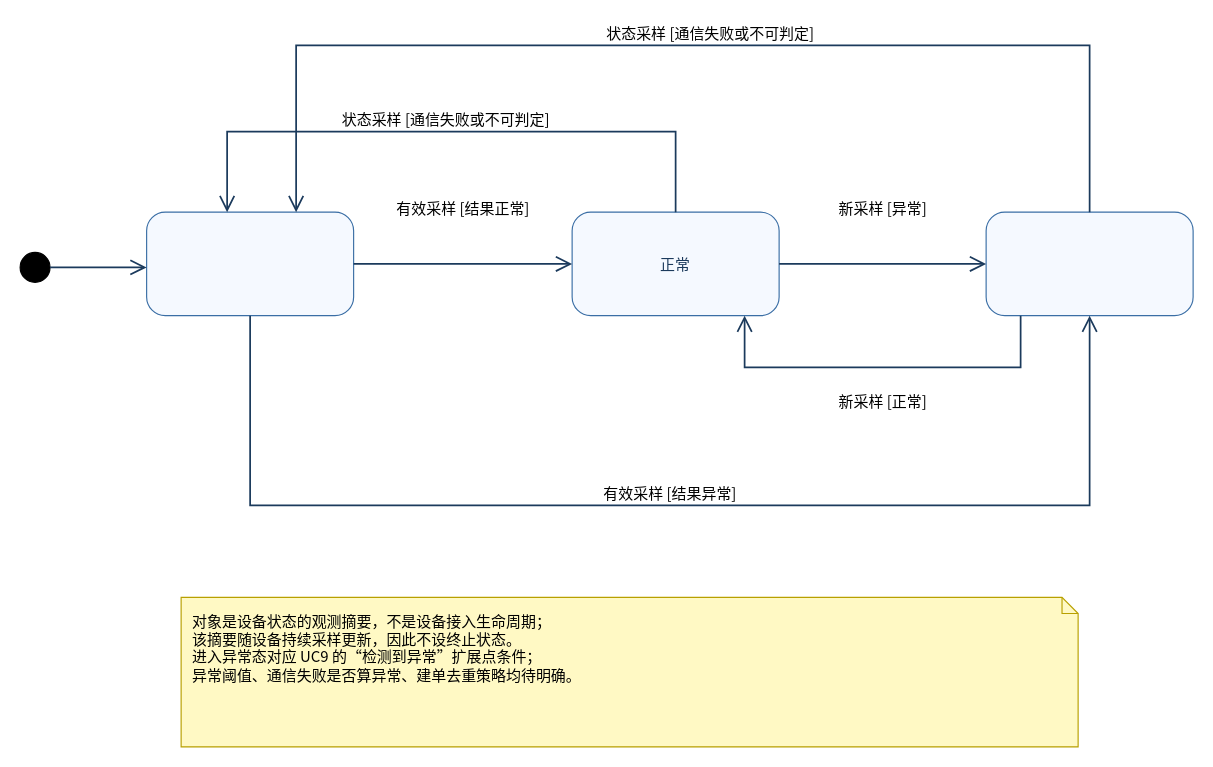
Image size: 1213x767. Some labels were removed from this diagram. The centre of each missing label's shape, as x and y in pixels:
异常: point 1089,263
未知: point 249,263
